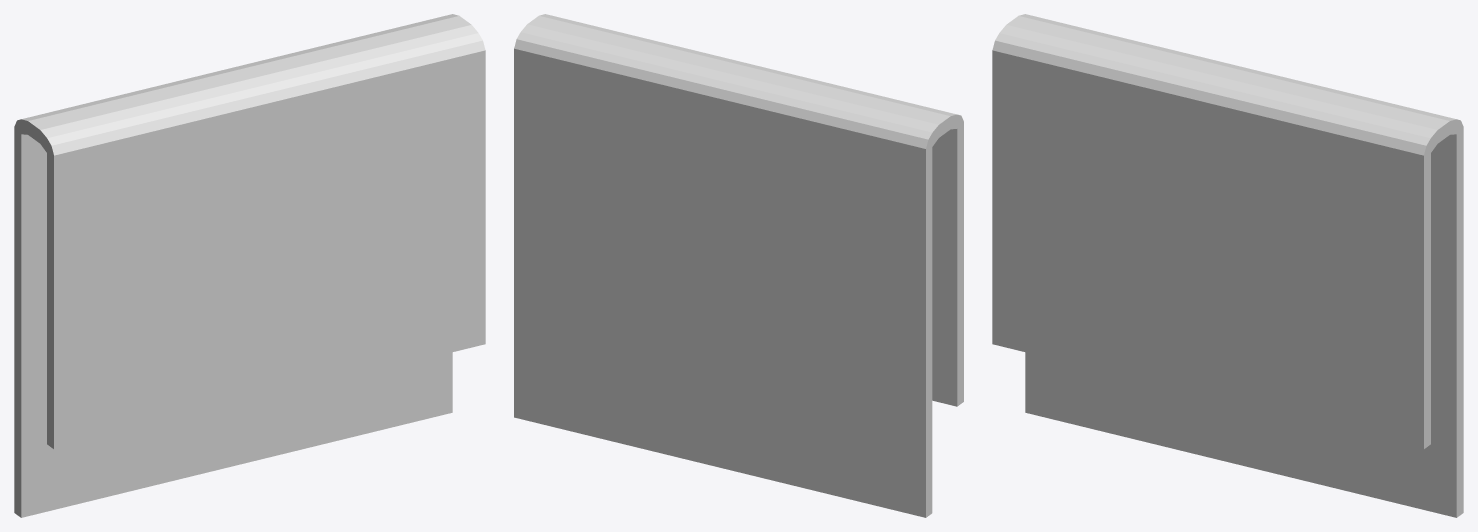
The model's file is Towel_01.fbx.
3 renders of one model, left to right at view 1: azimuth 30°, elevation 25°; view 2: azimuth 150°, elevation 25°; view 3: azimuth 330°, elevation 25°, orthographic. The views are drawn at different scales.
Parts seen in each view (by area): view 1: Towel_01; view 2: Towel_01; view 3: Towel_01.
Boxes of the visible parts, x1,y1,x2,y2 form: Towel_01: (14,14,485,517); Towel_01: (514,14,963,517); Towel_01: (992,14,1463,517).
Bounding box in the file's own units: 35.79 × 31.86 × 5.7.
